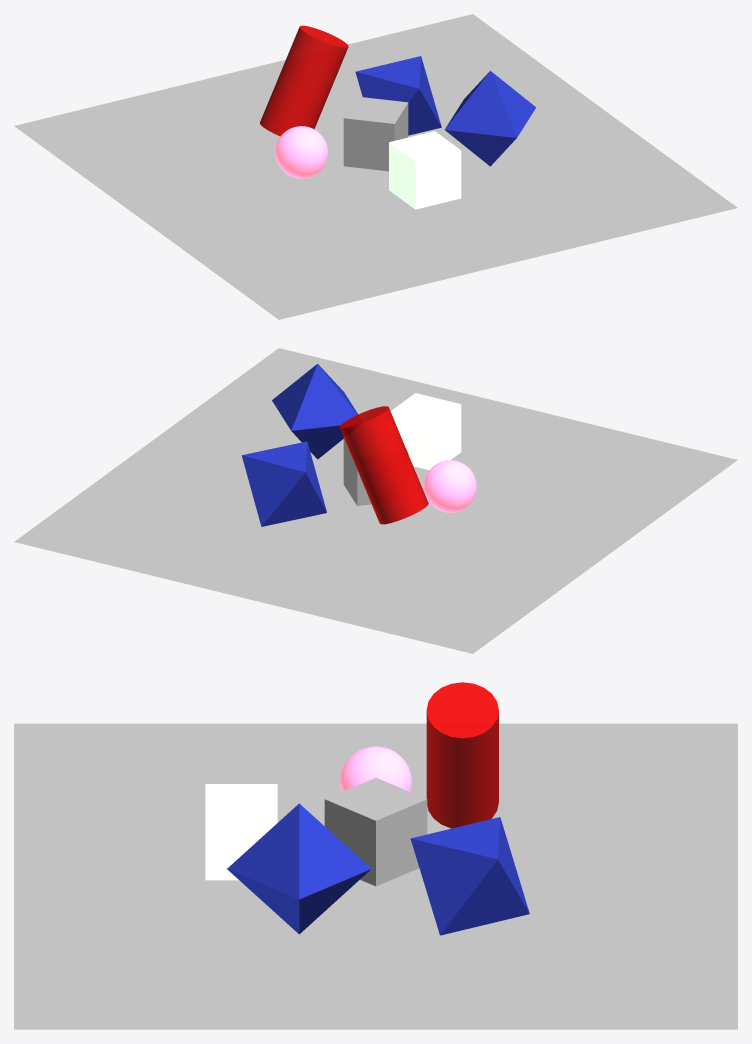
File: ExportTestScene.gltf
3 renders of one model, top to bottom at view 1: azimuth 30°, elevation 25°; view 2: azimuth 150°, elevation 25°; view 3: azimuth 270°, elevation 25°, orthographic. The views are drawn at different scales.
Parts seen in each view (by area): view 1: Plane, Cube (×2), Cylinder, d8 (1), d8, Sphere; view 2: Plane, Cylinder, d8, Cube (×2), d8 (1), Sphere; view 3: Plane, Cube (×2), Cylinder, d8 (1), d8, Sphere.
Boxes of the visible parts, x1,y1,x2,y2 form: Plane: [14, 14, 737, 319]; Cube (×2): [343, 96, 461, 209]; Cylinder: [260, 25, 348, 136]; d8 (1): [444, 71, 535, 166]; d8: [355, 56, 441, 135]; Sphere: [275, 126, 327, 178]; Plane: [14, 348, 737, 653]; Cylinder: [340, 406, 428, 524]; d8: [241, 441, 326, 526]; Cube (×2): [343, 393, 461, 505]; d8 (1): [272, 363, 357, 459]; Sphere: [424, 460, 476, 512]; Plane: [14, 723, 737, 1029]; Cube (×2): [205, 778, 427, 886]; Cylinder: [426, 682, 498, 828]; d8 (1): [227, 803, 371, 934]; d8: [410, 817, 529, 935]; Sphere: [340, 746, 411, 791].
Bounding box in the file's own units: 10 × 2.55 × 10.
